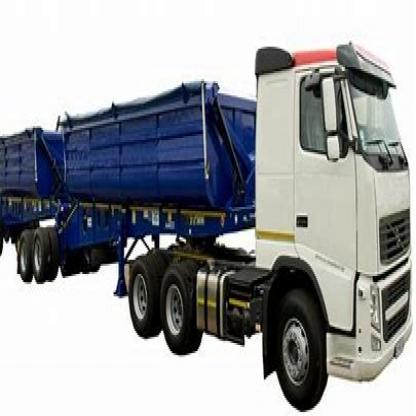dump_truck: (11, 28, 410, 412)
